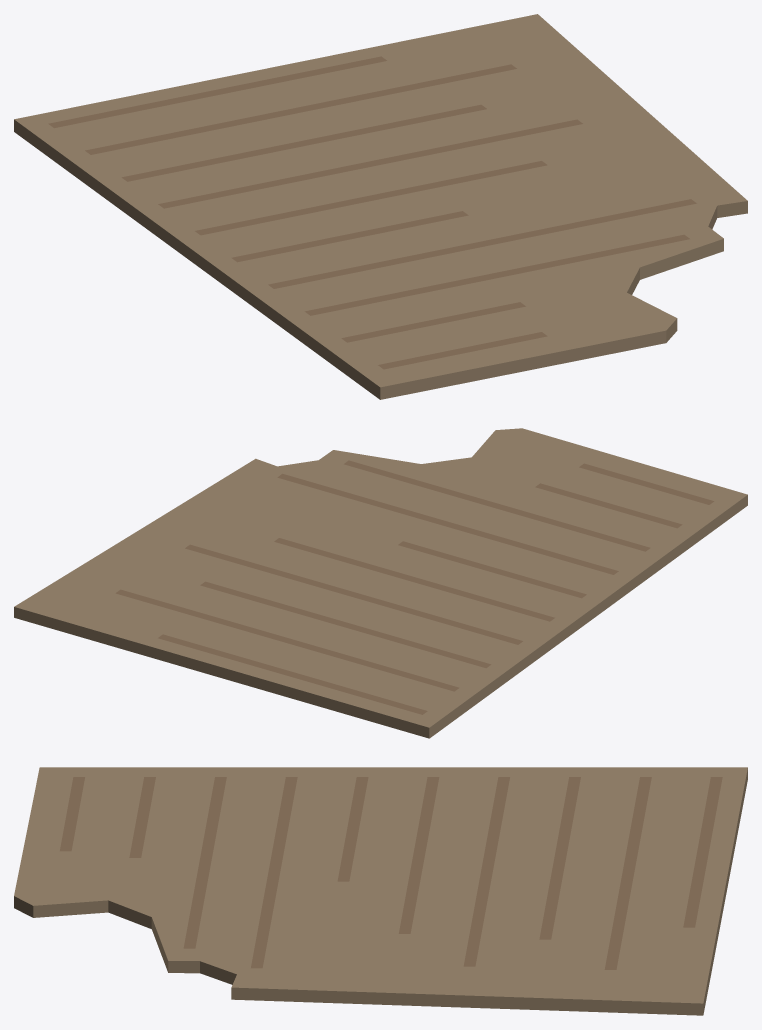
The model's file is LP_PostApoc_TatteredNewspaperB.fbx.
3 views of the same model, one above another, from view 1: azimuth 30°, elevation 25°; view 2: azimuth 150°, elevation 25°; view 3: azimuth 270°, elevation 25° (orthographic). The views are drawn at different scales.
Visible parts, largest first — view 1: TatteredNewspaperB; view 2: TatteredNewspaperB; view 3: TatteredNewspaperB.
Boxes of the visible parts, box(x1,y1,x2,y2) form: TatteredNewspaperB: box(14, 14, 747, 399); TatteredNewspaperB: box(14, 428, 747, 738); TatteredNewspaperB: box(14, 767, 747, 1015).
Bounding box in the file's own units: 25.75 × 0.617 × 33.8.
